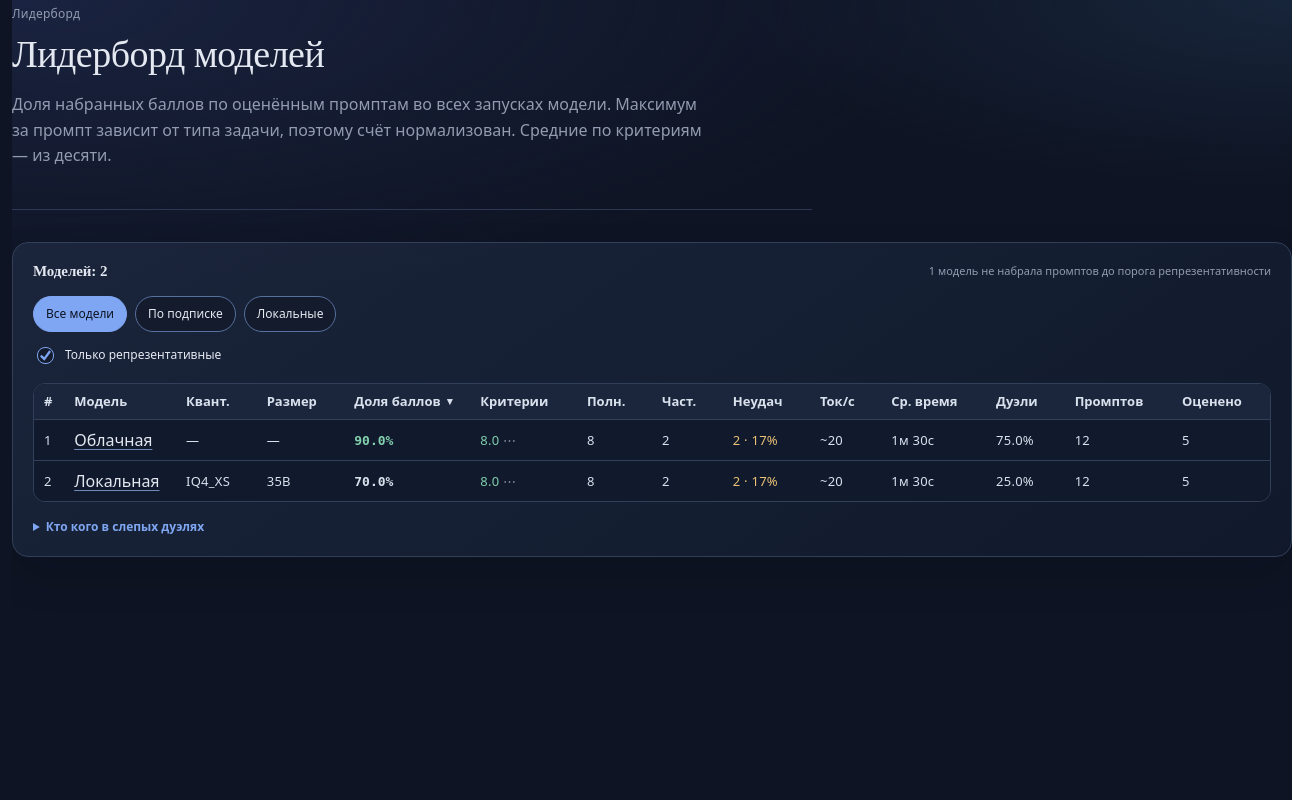
Test: лидерборд › делит модели на локальные и подписочные и считает места внутри группы
The image size is (1292, 800).
Expected: the link "Облачная" is shown, [74,429,152,451]
Expected: the link "Локальная" is shown, [74,470,160,492]
Click the button "Локальные": x=290, y=314 [244,296,336,332]
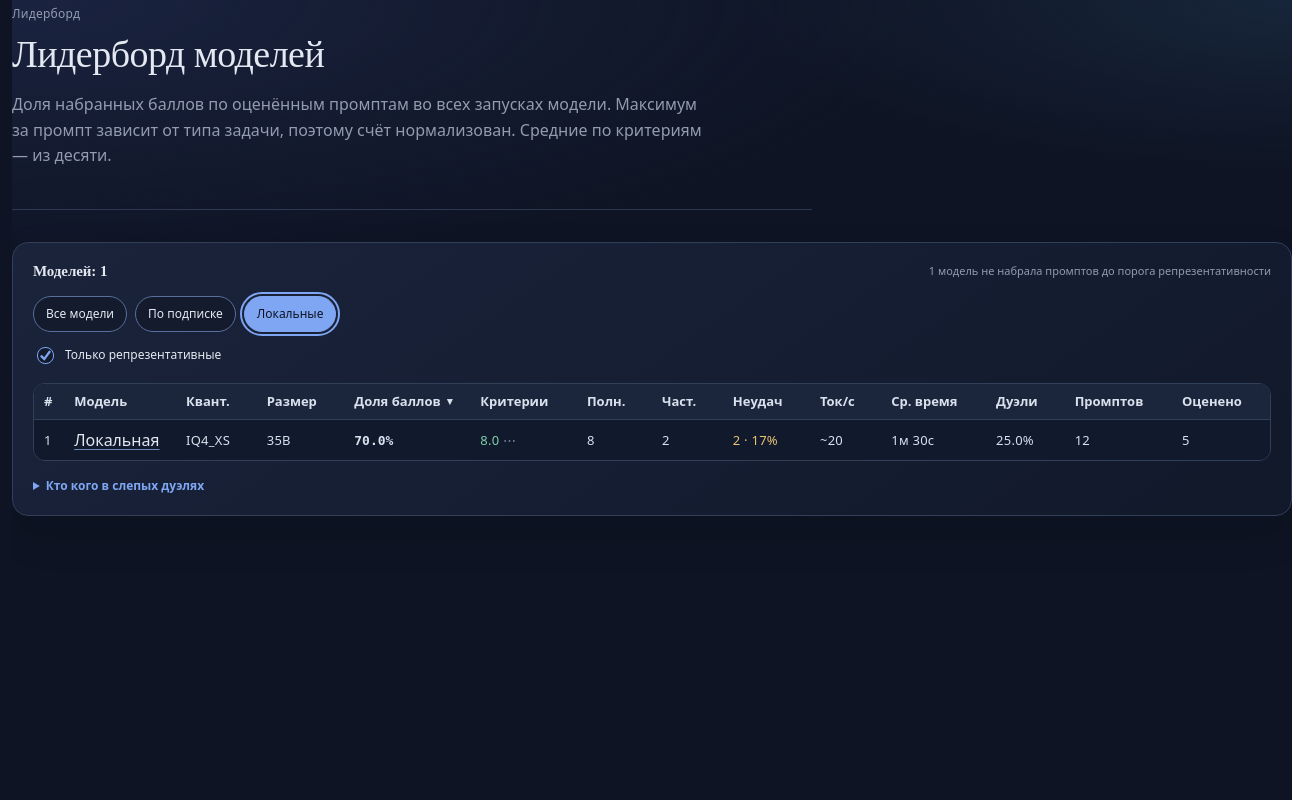
Result: the link "Облачная" is gone
Result: the text "1" is shown at [34,420,64,460]
